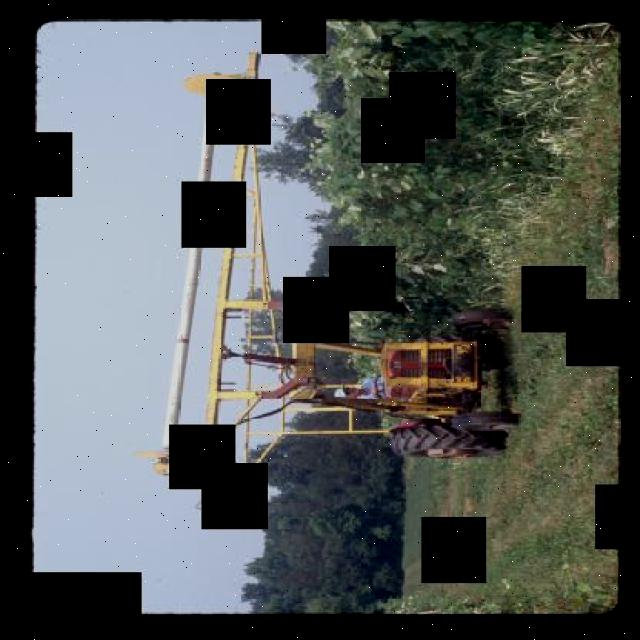Tratores - v5 YOLO V8L 2024-11-13: (152, 250, 605, 507)
